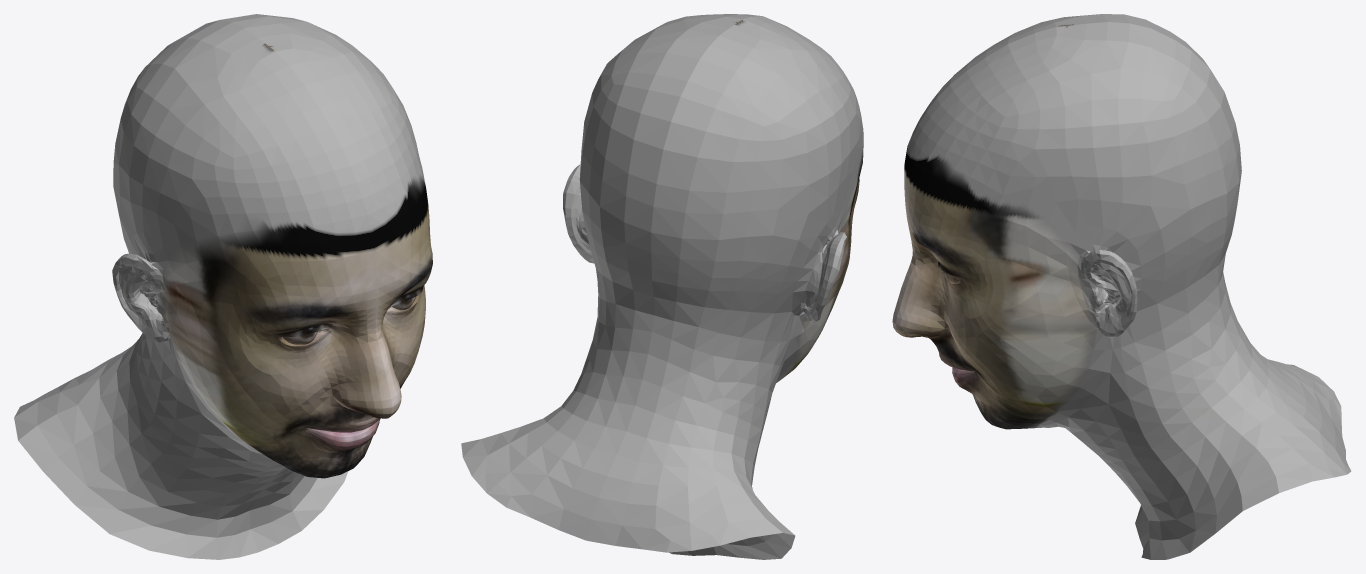
File: ezgif-frame-068.obj
3 views of the same model, side by side, from view 1: azimuth 30°, elevation 25°; view 2: azimuth 150°, elevation 25°; view 3: azimuth 270°, elevation 25° (orthographic). The views are drawn at different scales.
Bounding box in the file's own units: 0.209 × 0.3284 × 0.2666.
Materials: 1 (1 with a texture image).
